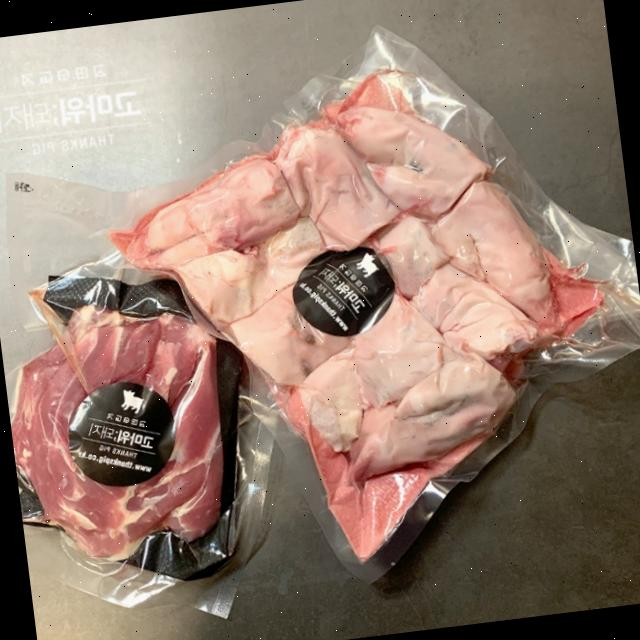meat: (0, 53, 640, 610)
